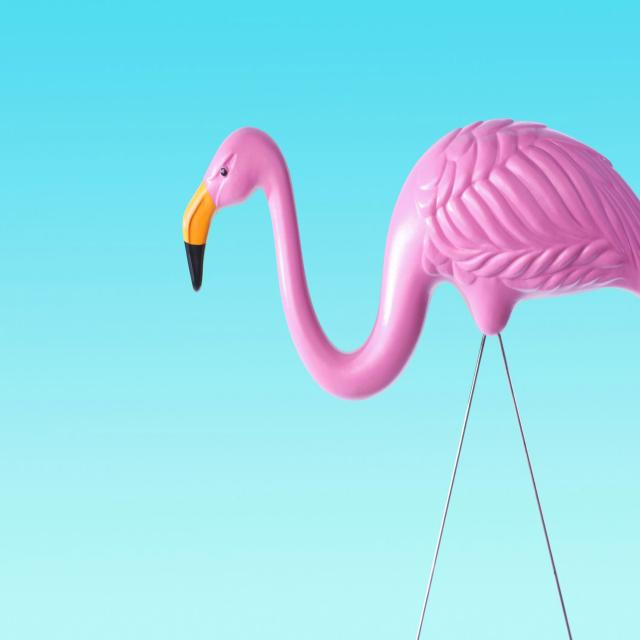flamingo: (182, 119, 640, 400)
